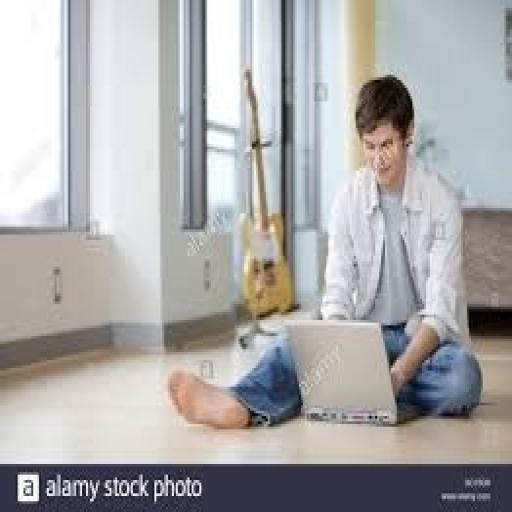using_laptop: (282, 317, 420, 427)
